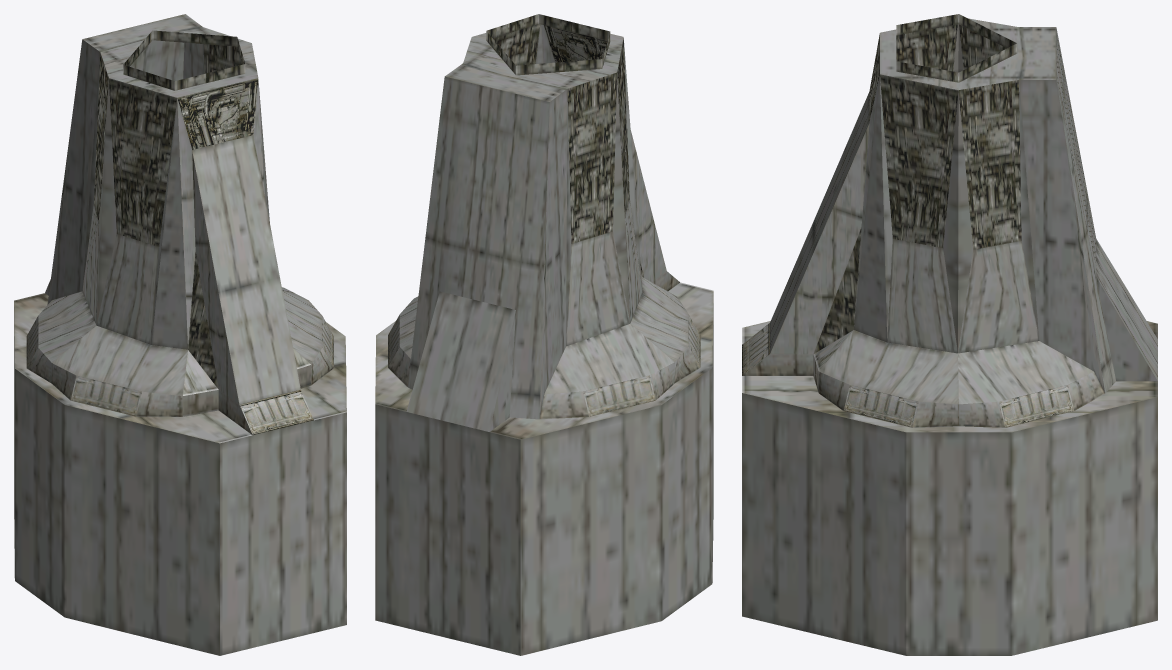
The model's file is ins_all_def_turret_lg_s02_l2.fbx.
The picture shows the model from 3 angles, left to right: view 1: azimuth 30°, elevation 25°; view 2: azimuth 150°, elevation 25°; view 3: azimuth 270°, elevation 25°; orthographic projection. The views are drawn at different scales.
Parts seen in each view (by area): view 1: mesh_node; view 2: mesh_node; view 3: mesh_node.
Part boxes in pixels (bbox=[...]): mesh_node: bbox=[14, 14, 346, 655]; mesh_node: bbox=[375, 14, 713, 655]; mesh_node: bbox=[742, 14, 1157, 655].
Size of the model in its own units: 5.53 by 9.67 by 6.74.
1 material, 1 textured.
